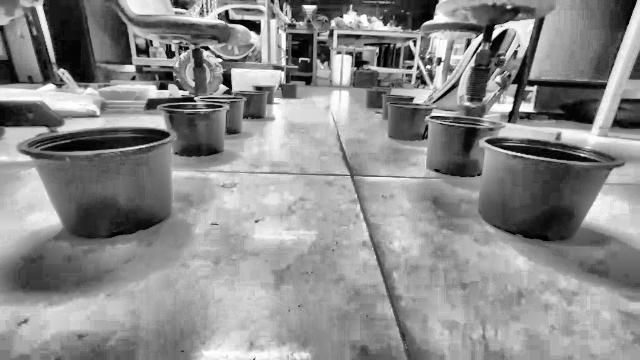pot: (18, 91, 268, 239), (479, 136, 624, 241), (426, 114, 505, 177), (385, 99, 434, 141), (382, 94, 414, 119), (366, 87, 390, 109), (252, 85, 275, 104), (280, 83, 297, 98)
